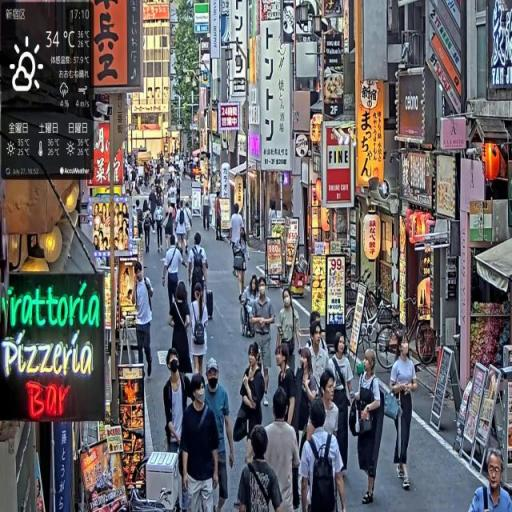person: (181, 371, 221, 512), (352, 349, 385, 507), (301, 402, 348, 512), (202, 357, 235, 512), (264, 390, 303, 511), (390, 332, 419, 492), (326, 331, 357, 477), (237, 425, 285, 512), (235, 343, 268, 468), (470, 450, 512, 512), (134, 260, 155, 382), (171, 283, 196, 381), (277, 289, 303, 376), (275, 344, 299, 429), (163, 235, 185, 327), (191, 283, 211, 379), (188, 231, 210, 306), (215, 194, 224, 243)
